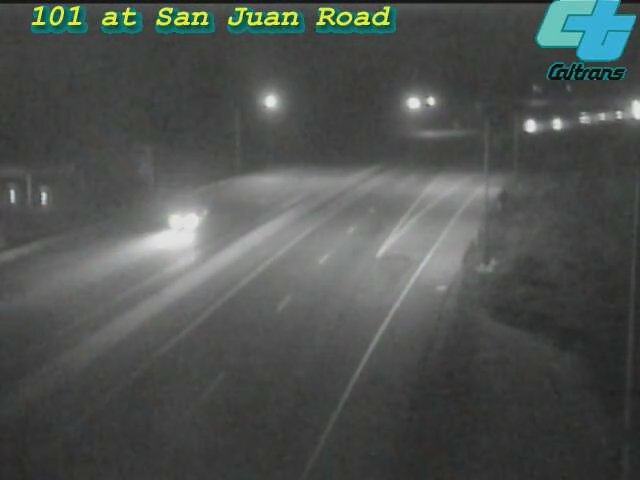vehicle: (140, 185, 220, 265), (578, 92, 628, 142), (562, 93, 612, 143), (538, 98, 588, 148), (506, 101, 556, 151), (596, 90, 640, 140), (610, 84, 640, 134)
